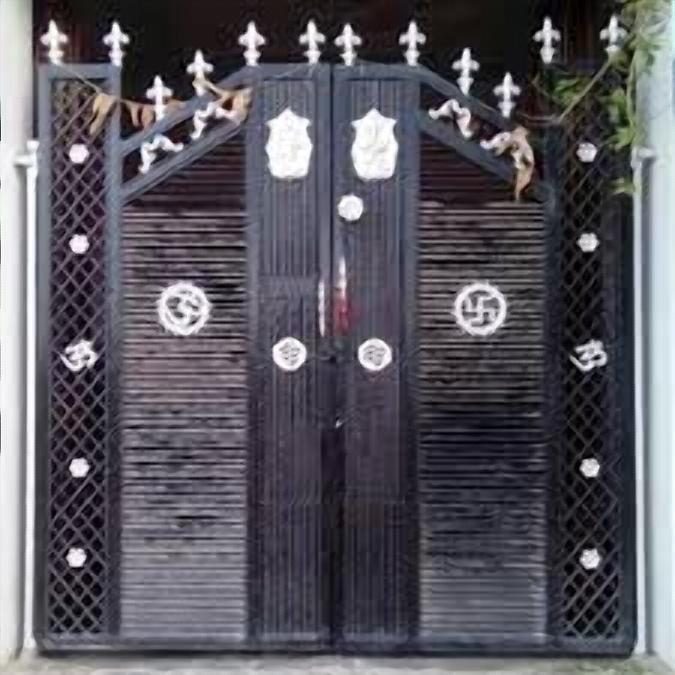Gate: (17, 0, 655, 662)
